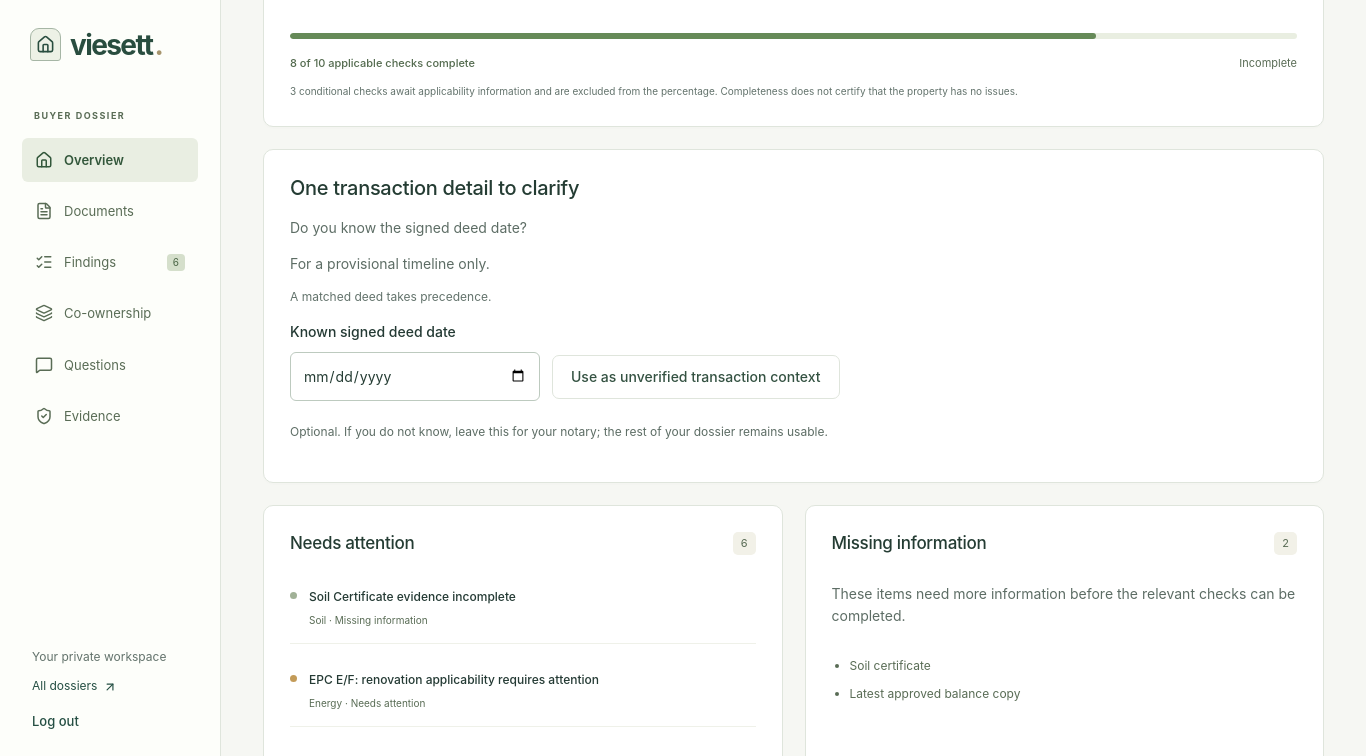
Test case: asks only the structured date need and keeps its unverified meaning visible
(page scrolled)
In the date field labelled "Known signed deed date": [415, 376] box [290,352,540,401], type "2026-02-28"
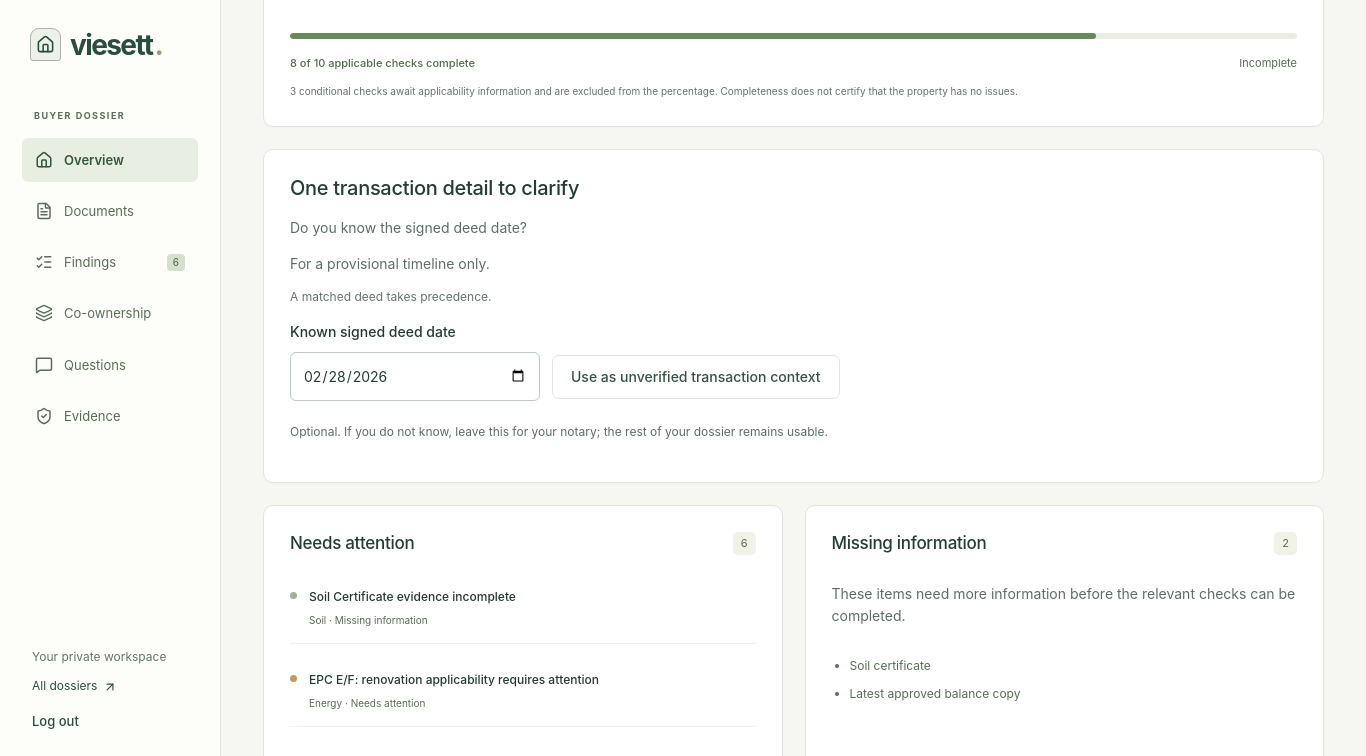
Click the button "Use as unverified transaction context": [696, 377] box [552,355,840,399]
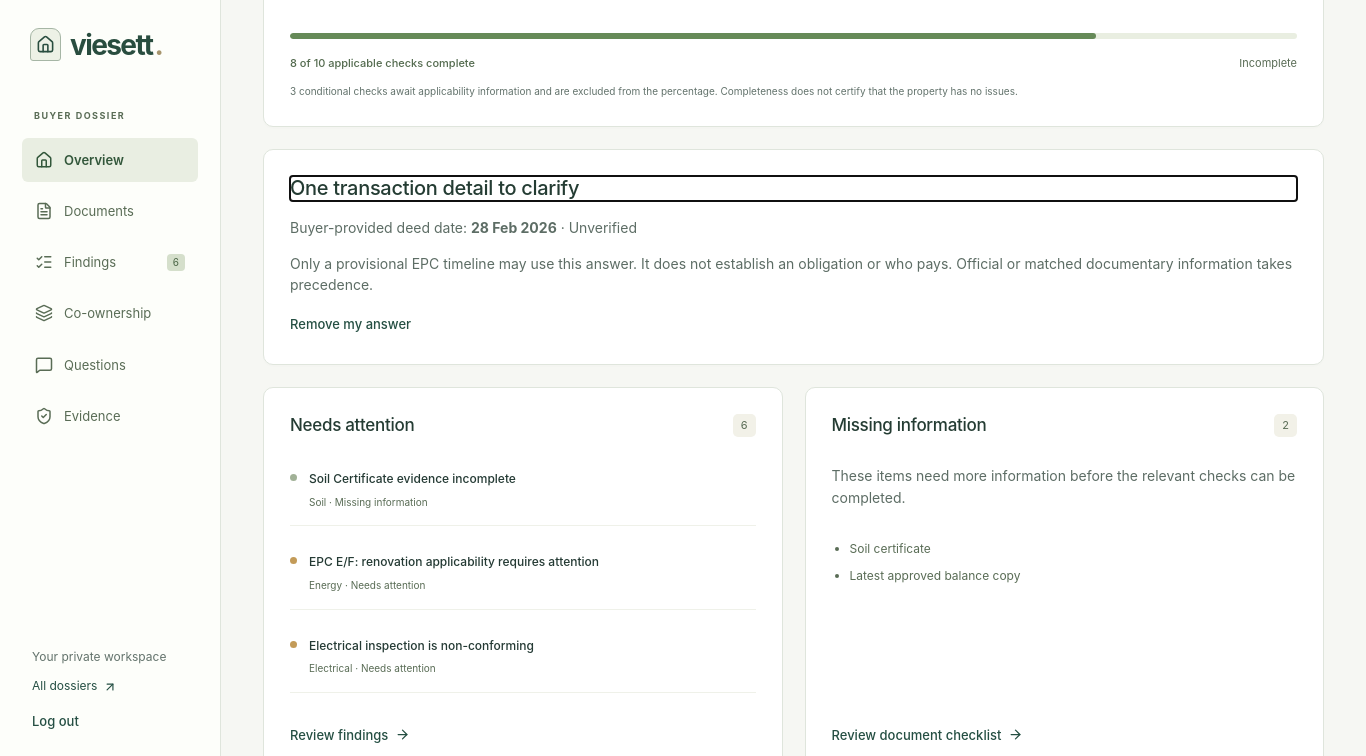
Now the text "Buyer-provided deed date: 28 Feb 2026 · Unverified" is shown, box [290,219,637,236]
Now the text "does not establish an obligation or who pays" is shown, box [290,255,1292,293]
